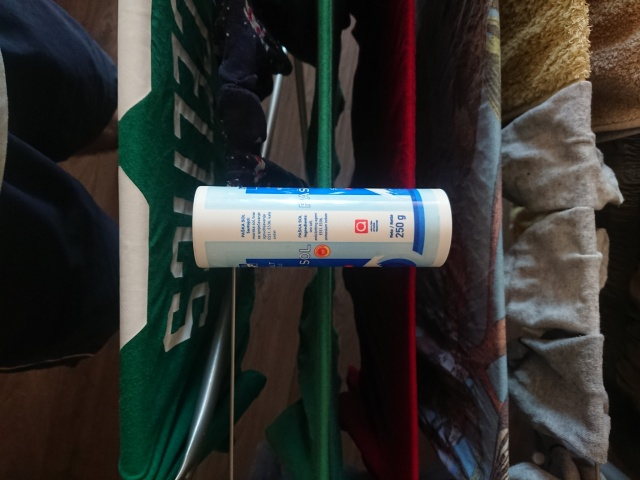Solana Pag Fine Sea Salt 250g: (190, 184, 455, 271)
